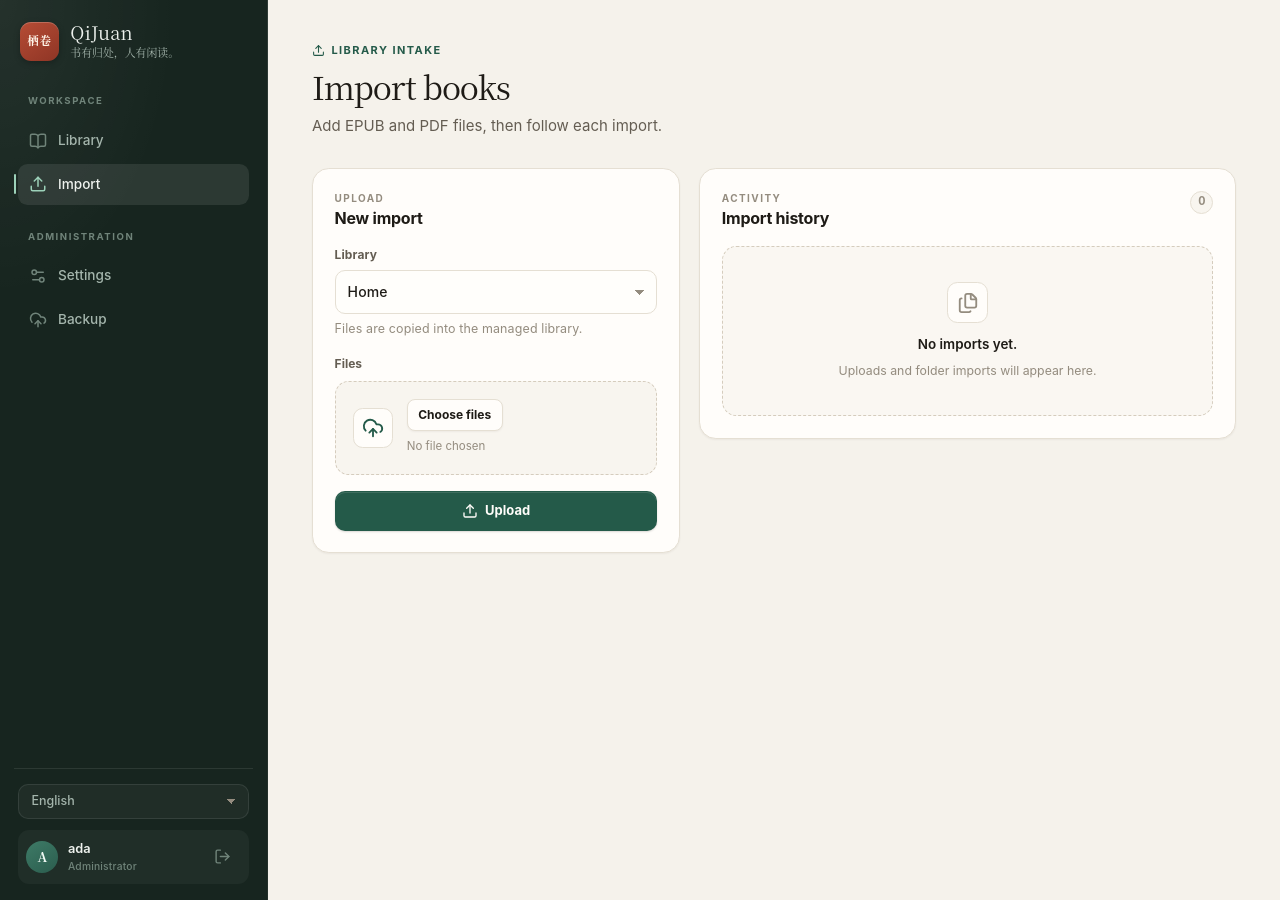
import screen › shows an empty import in English and Simplified Chinese
Check: the heading "Import books" is shown, box [312,63,510,109]
Check: the text "No imports yet." is shown, box [918,334,1017,355]
Select "简体中文" in the dropdown named "Language": (134, 801) [18,784,249,819]
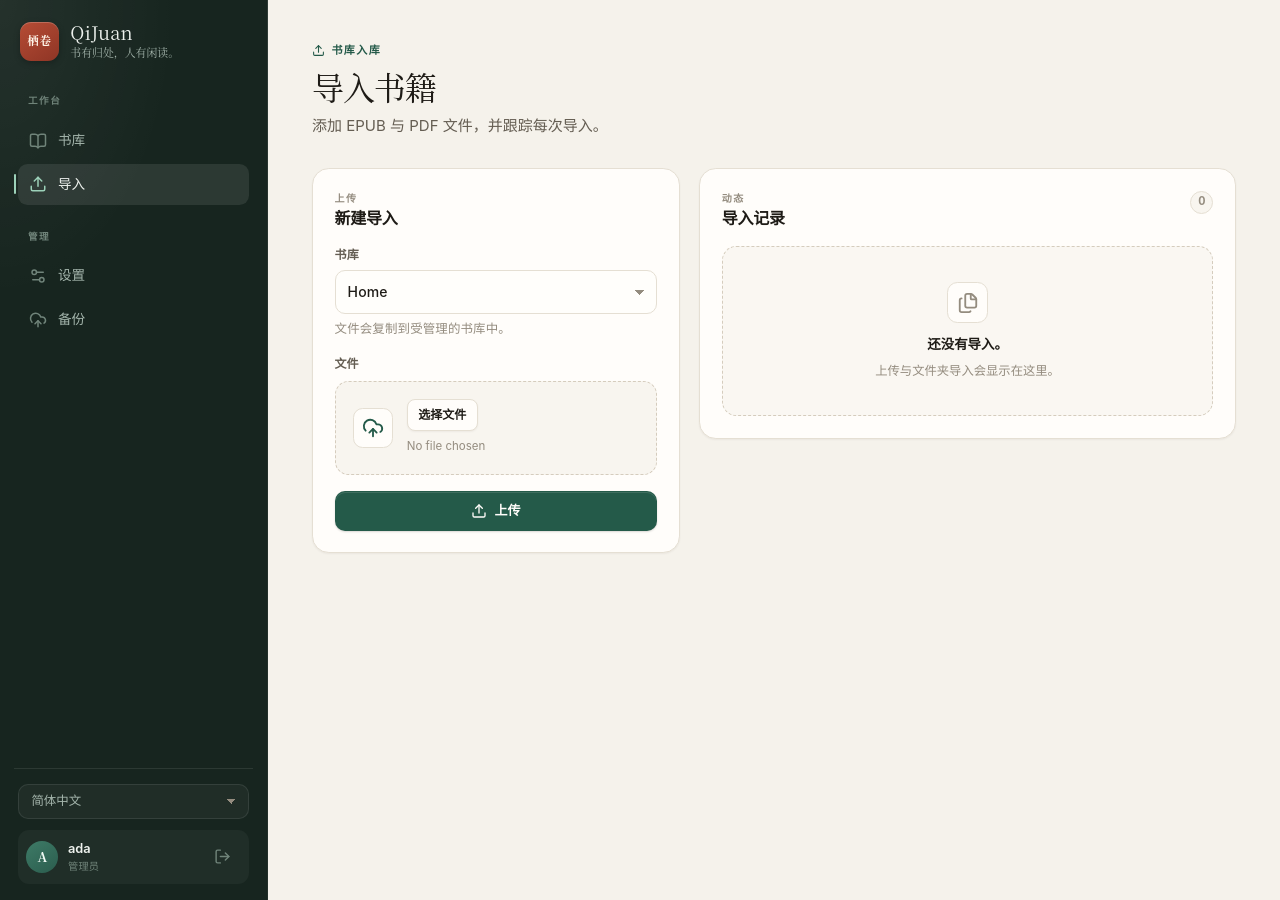
Check: the heading "导入书籍" is shown, box [312,63,436,109]
Check: the text "还没有导入。" is shown, box [927,334,1008,355]
Check: the file field labelled "文件" is shown, box [335,356,359,371]
